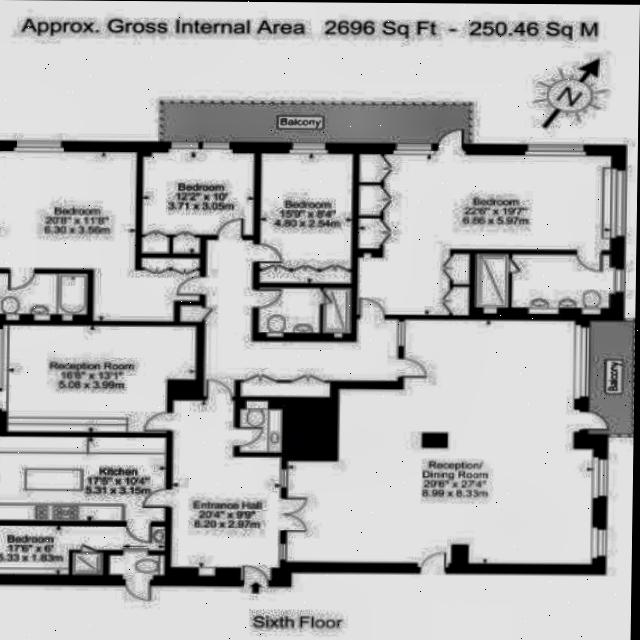room: (285, 318, 595, 565), (356, 153, 613, 318), (0, 151, 201, 322), (203, 240, 400, 398), (3, 324, 196, 434), (169, 399, 283, 581), (0, 436, 167, 522), (258, 153, 355, 284), (142, 148, 255, 255), (452, 253, 617, 317), (0, 525, 164, 576), (258, 287, 352, 333), (0, 273, 88, 321), (240, 400, 283, 453), (240, 382, 330, 397), (180, 305, 203, 322)
